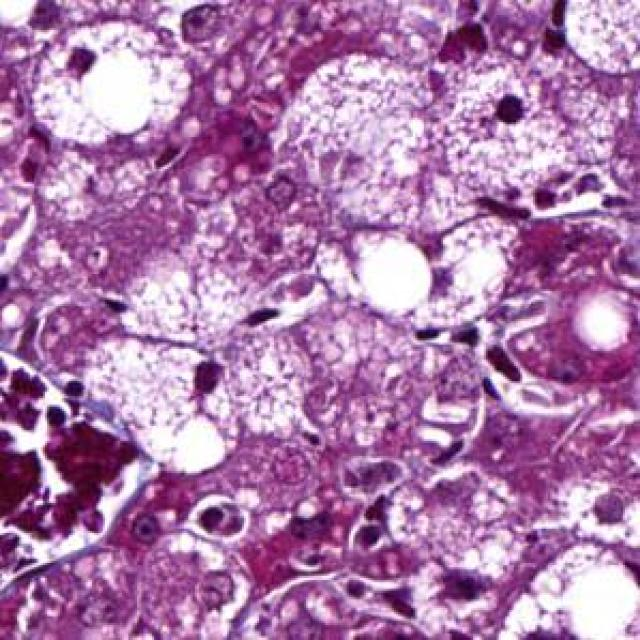ballooning: (84, 327, 248, 484), (30, 15, 195, 156), (416, 208, 522, 334), (509, 542, 634, 634)
